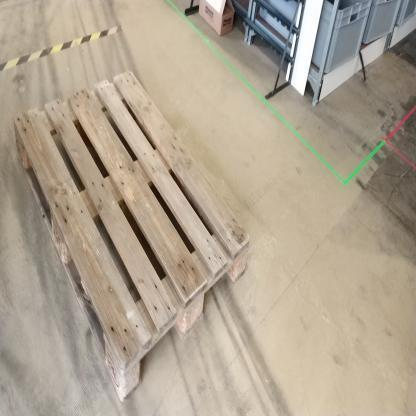pallet: (7, 66, 253, 410)
